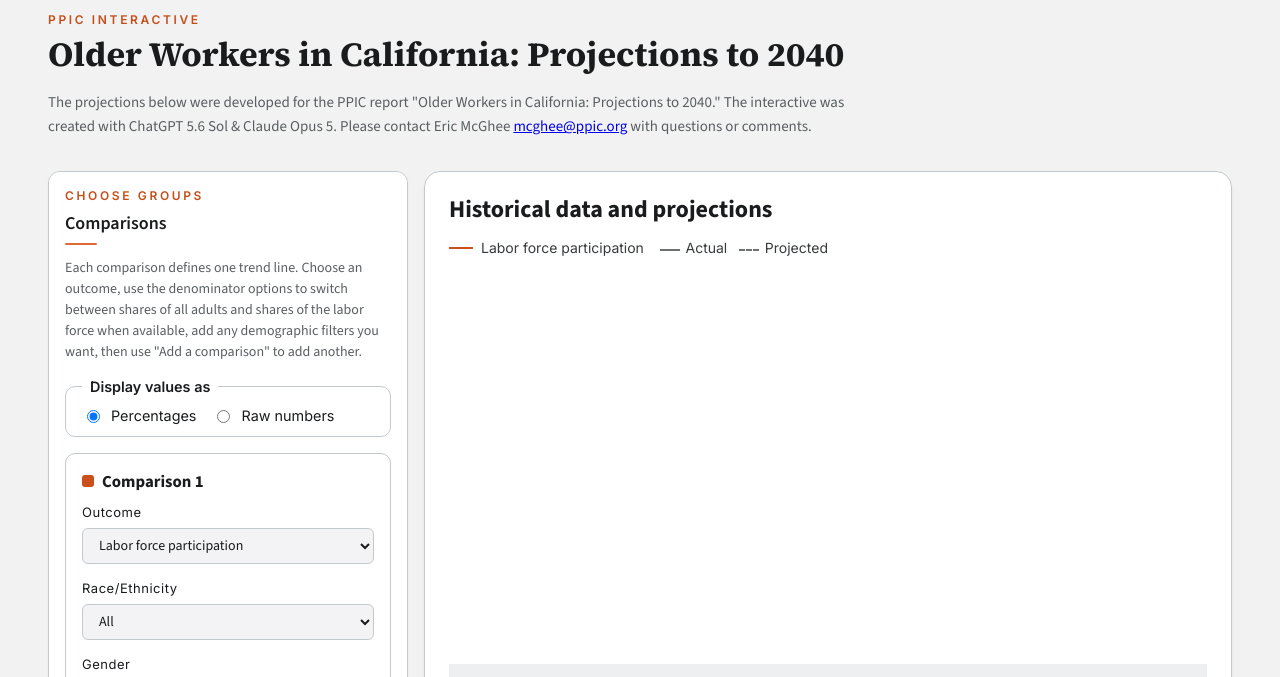
Test: App › shows the poverty source note only when a comparison uses a poverty outcome
The width and height of the screenshot is (1280, 677).
Expected: the heading "Comparisons" is shown, [65, 211, 167, 235]
Expected: the text "California Poverty Measure" is not shown
Select "Poverty" in the dropdown labelled "Outcome" at [228, 546], box [82, 528, 374, 564]
(page scrolled)
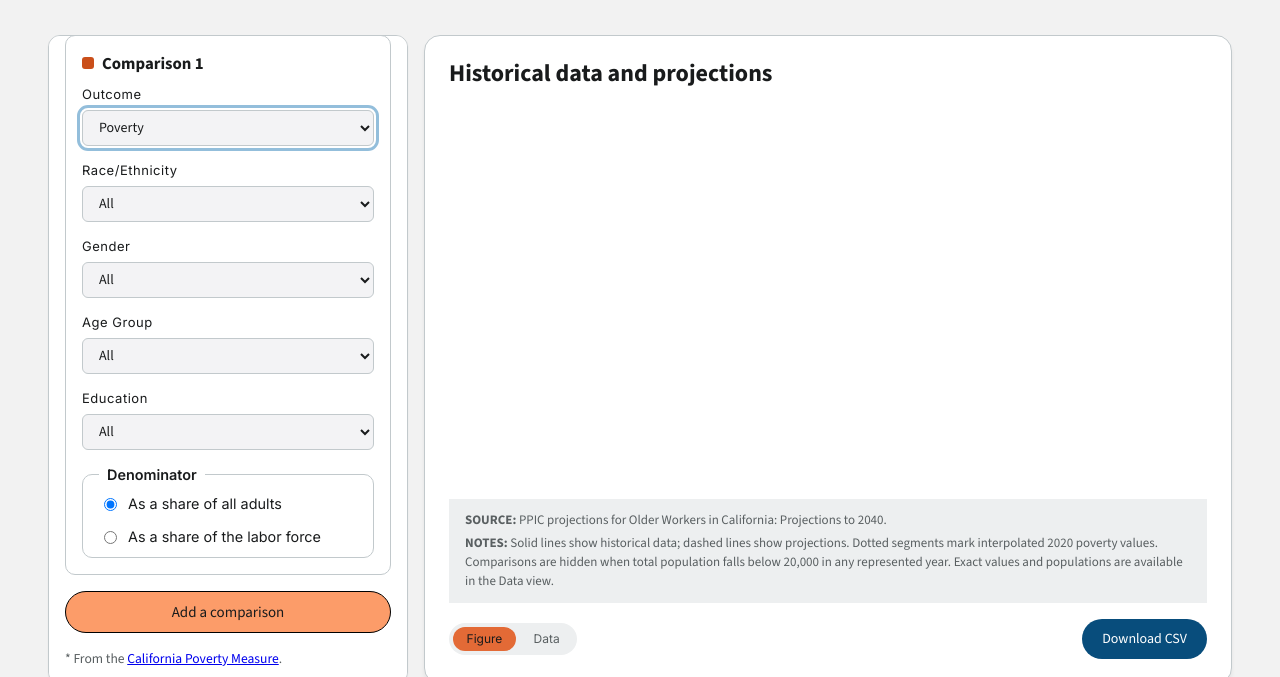
Result: the link "California Poverty Measure" is shown at [127, 649, 279, 667]
